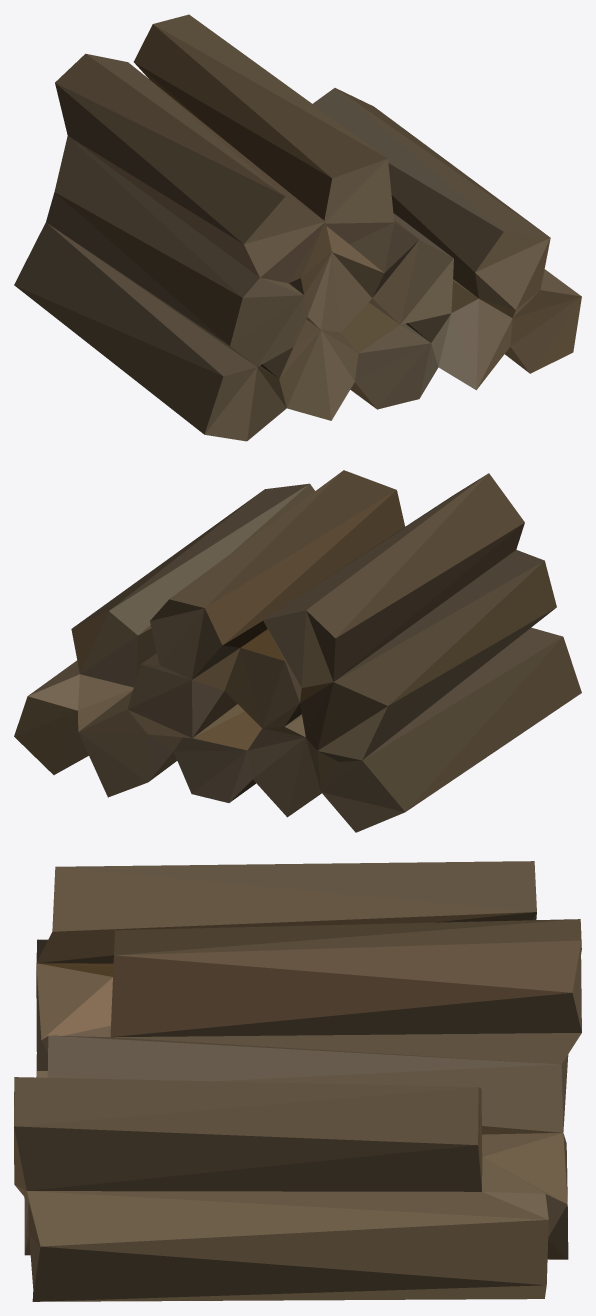
File: Firewood_B.fbx
The picture shows the model from 3 angles, top to bottom: view 1: azimuth 30°, elevation 25°; view 2: azimuth 150°, elevation 25°; view 3: azimuth 270°, elevation 25°; orthographic projection. The views are drawn at different scales.
Visible parts, largest first — view 1: Firewood_B; view 2: Firewood_B; view 3: Firewood_B.
Boxes of the visible parts, left/top/right/bottom form: Firewood_B: left=14, top=14, right=581, bottom=441; Firewood_B: left=14, top=470, right=581, bottom=832; Firewood_B: left=14, top=861, right=581, bottom=1301.
Bounding box in the file's own units: 143 × 81.79 × 148.
